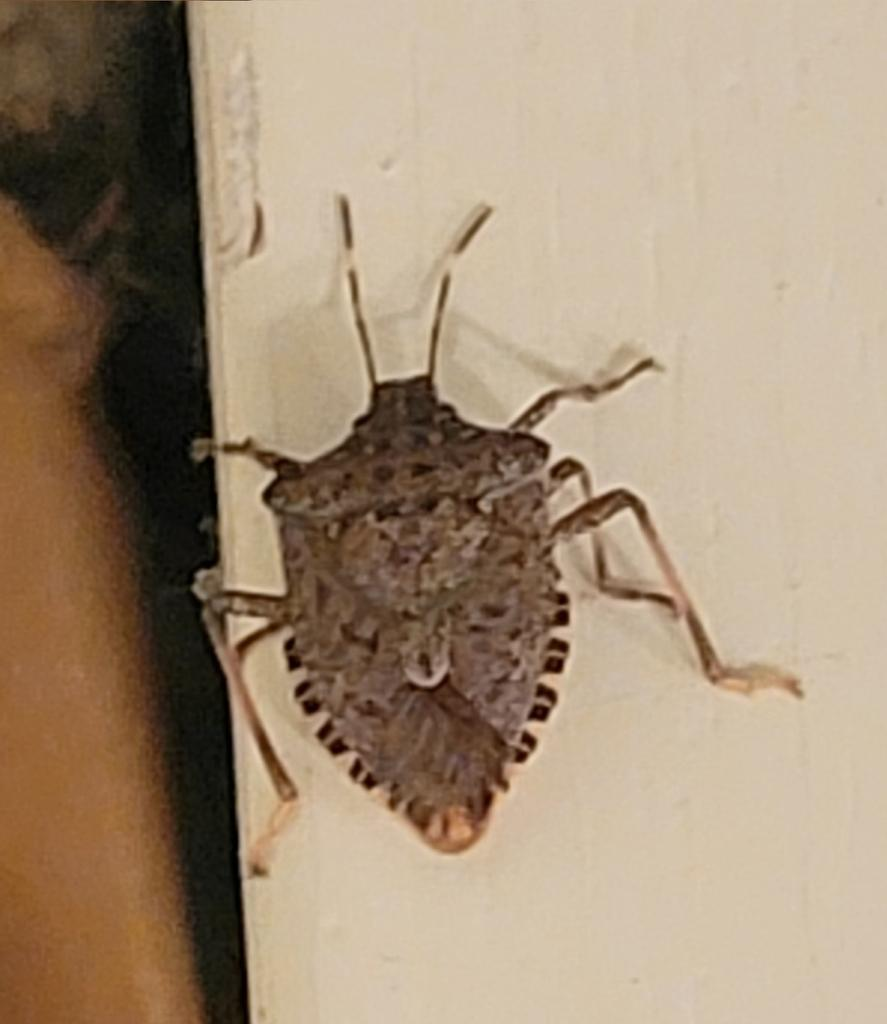stink_bugs: (130, 123, 831, 975)
